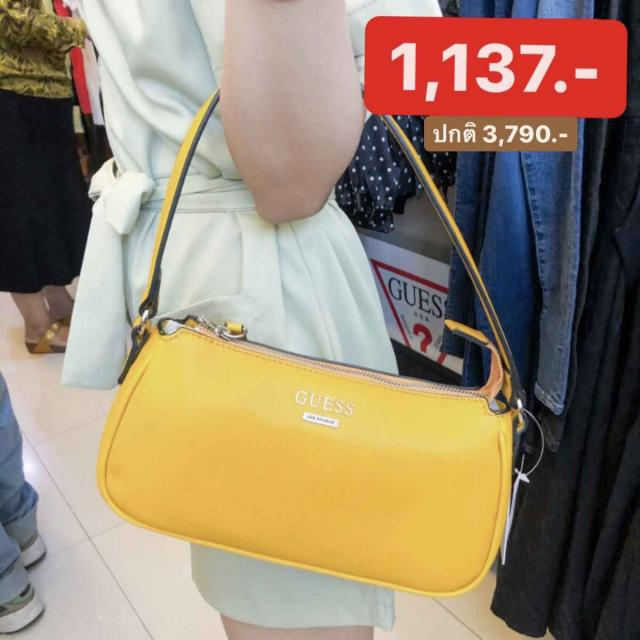handbag: (98, 311, 513, 602)
